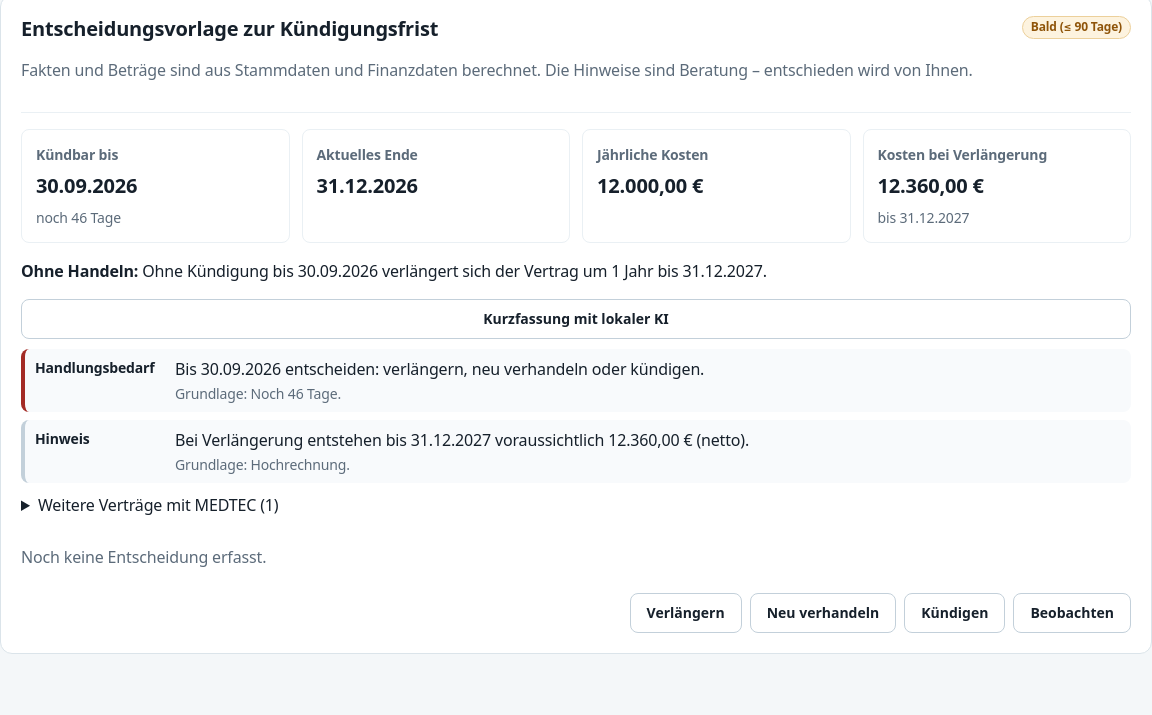
Test case: Entscheidungsvorlage › zeigt Fakten, begründete Hinweise und erfasst eine Entscheidung nur auf Klick
The width and height of the screenshot is (1152, 715).
Expected: the text "Bald (≤ 90 Tage)" is shown, [1022,16,1131,39]
Expected: the text "noch 46 Tage" is shown, [36,208,121,227]
Click the button "Kurzfassung mit lokaler KI": (576, 319) [21,299,1131,339]
(page scrolled)
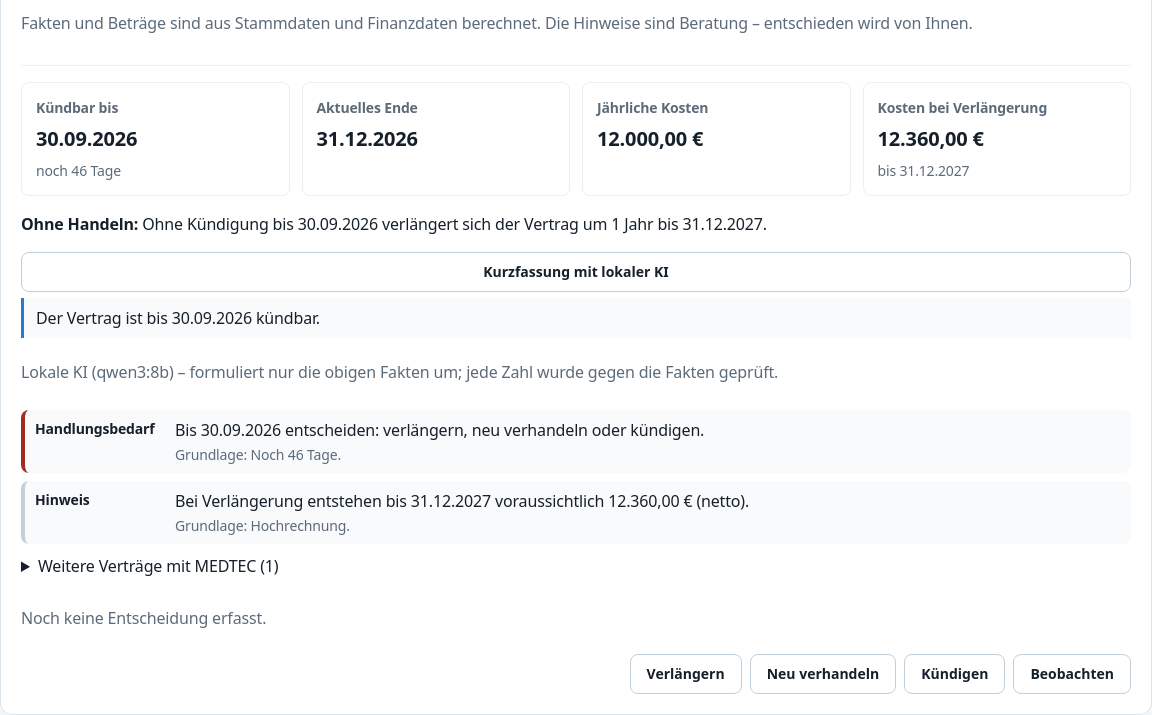
Now the text "Der Vertrag ist bis 30.09.2026 kündbar." is shown, box [21,298,1131,338]
Now the text "Lokale KI (qwen3:8b)" is shown, box [21,361,778,383]
Click the button "Neu verhandeln": (823, 674) [750,654,896,694]
(page scrolled)
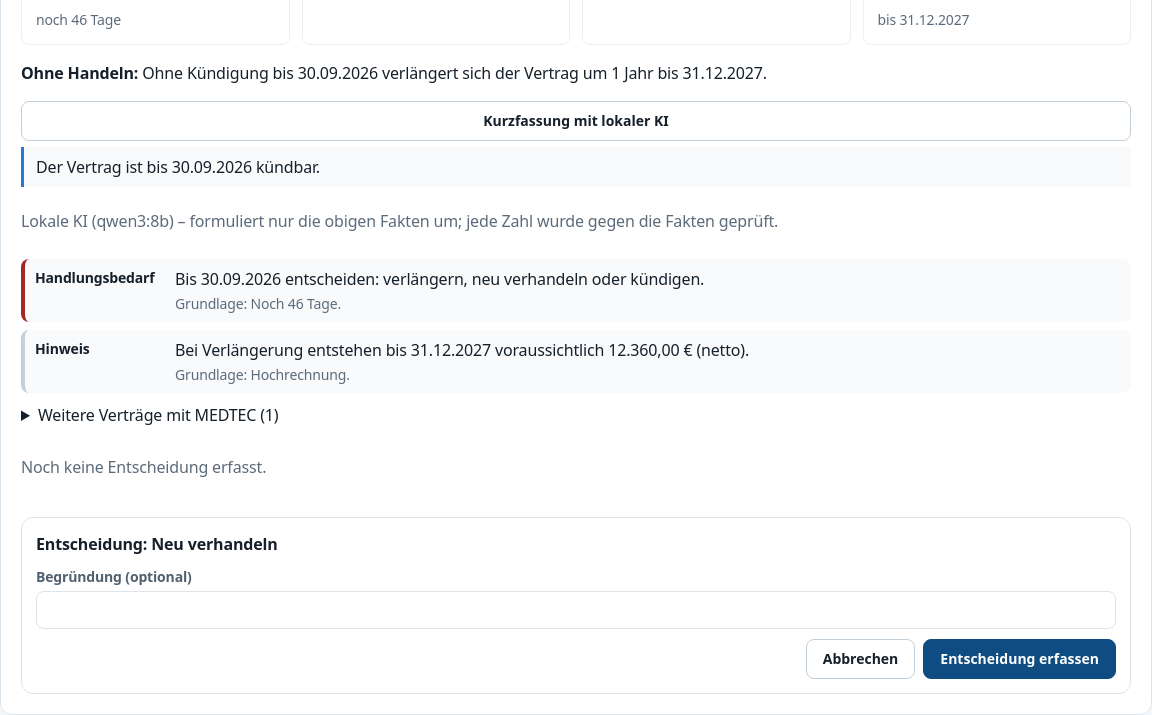
In the field labelled "Begründung (optional)": (576, 610) [36,591,1116,629], type "Angebot einholen"
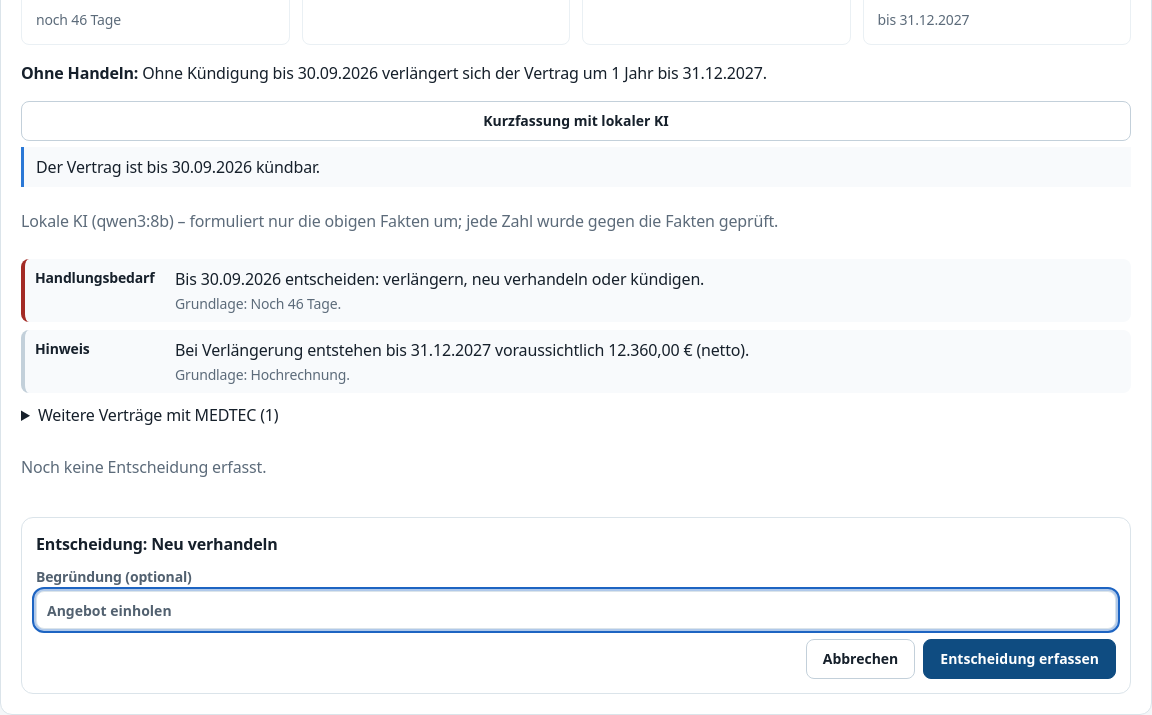
Click the button "Entscheidung erfassen": (1020, 659) [923,639,1116,679]
(page scrolled)
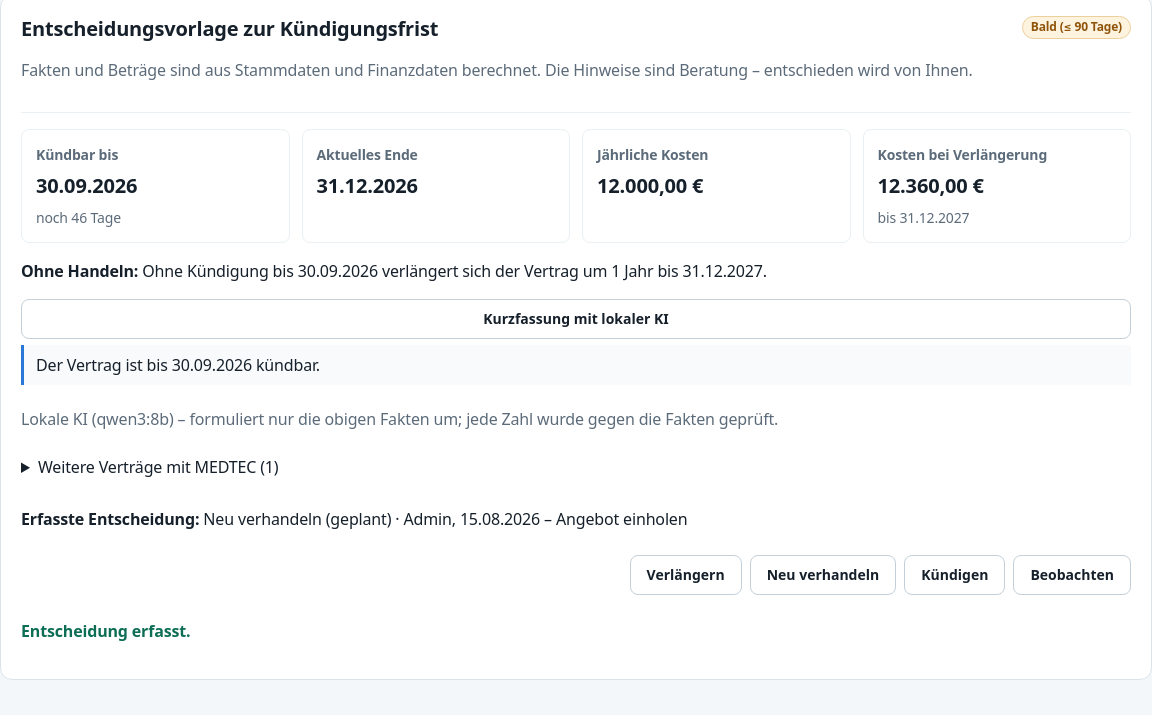
Now the text "Neu verhandeln (geplant)" is shown, box [21,508,688,530]
